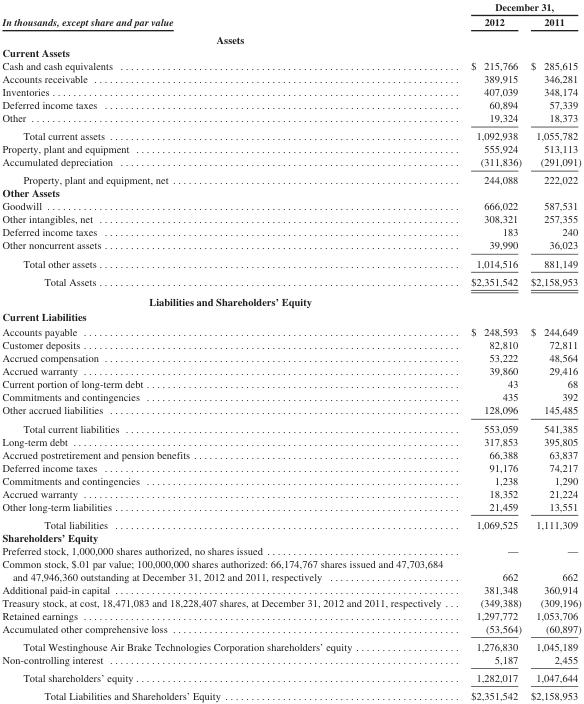table: (1, 0, 580, 701)
table column: (1, 0, 456, 701), (456, 0, 525, 701), (525, 0, 580, 701)
table column header: (1, 0, 580, 30)
table projected row header: (1, 291, 580, 308), (1, 30, 580, 46), (1, 308, 580, 324), (1, 46, 580, 59), (1, 186, 580, 199), (1, 530, 580, 543)
table row: (1, 556, 580, 582), (1, 271, 580, 291), (1, 253, 580, 271), (1, 668, 580, 686), (1, 291, 580, 308), (1, 14, 580, 30), (1, 30, 580, 46), (1, 126, 580, 142), (1, 170, 580, 186), (1, 308, 580, 324), (1, 418, 580, 434), (1, 499, 580, 515), (1, 621, 580, 637), (1, 652, 580, 668), (1, 111, 580, 126), (1, 155, 580, 170), (1, 238, 580, 253), (1, 403, 580, 418), (1, 515, 580, 530), (1, 637, 580, 652), (1, 686, 580, 701), (1, 0, 580, 14), (1, 324, 580, 338), (1, 46, 580, 59), (1, 59, 580, 72), (1, 72, 580, 85), (1, 85, 580, 98), (1, 98, 580, 111), (1, 142, 580, 155), (1, 186, 580, 199), (1, 199, 580, 212), (1, 212, 580, 225), (1, 225, 580, 238), (1, 338, 580, 351), (1, 351, 580, 364), (1, 364, 580, 377), (1, 377, 580, 390), (1, 390, 580, 403), (1, 434, 580, 447), (1, 447, 580, 460), (1, 460, 580, 473), (1, 473, 580, 486), (1, 486, 580, 499), (1, 530, 580, 543), (1, 543, 580, 556), (1, 582, 580, 595), (1, 595, 580, 608), (1, 608, 580, 621)
table spanning cell: (1, 0, 456, 30), (456, 0, 580, 14)
